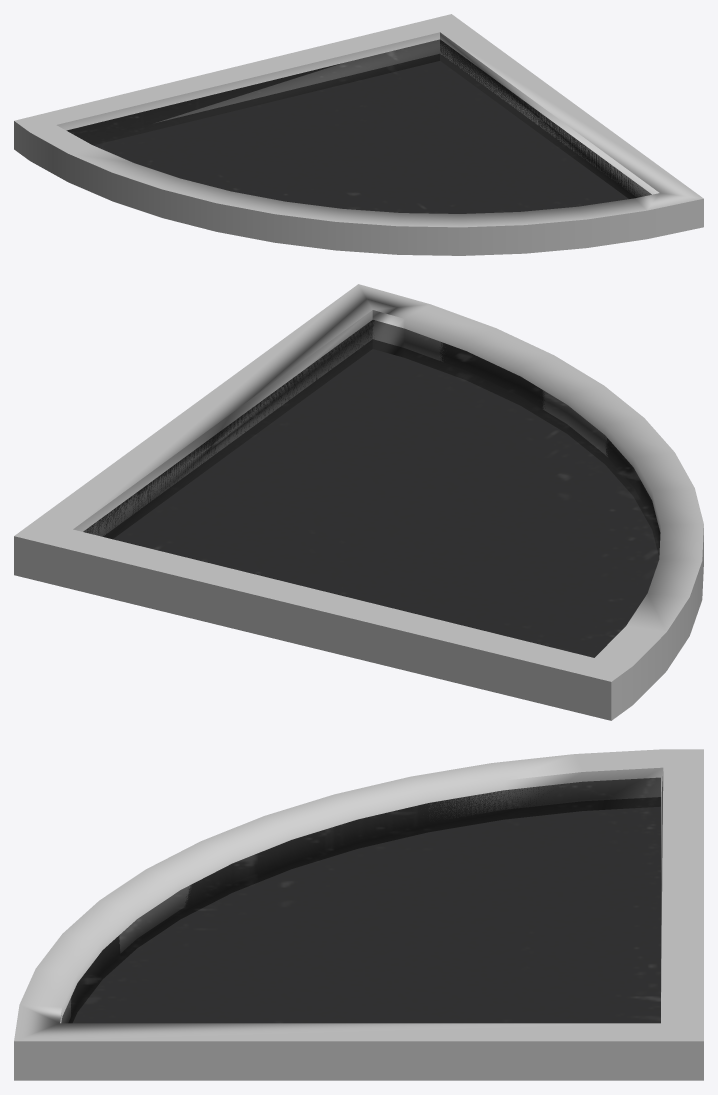
Rendered from glass_2x2_quartercircle.fbx.
3 views of the same model, one above another, from view 1: azimuth 30°, elevation 25°; view 2: azimuth 150°, elevation 25°; view 3: azimuth 270°, elevation 25° (orthographic). The views are drawn at different scales.
Visible parts, largest first — view 1: glass_2x2_quartercircle; view 2: glass_2x2_quartercircle; view 3: glass_2x2_quartercircle.
Part boxes in pixels (x1=…): glass_2x2_quartercircle: x1=14, y1=14, x2=703, y2=255; glass_2x2_quartercircle: x1=14, y1=284, x2=703, y2=720; glass_2x2_quartercircle: x1=14, y1=749, x2=703, y2=1080.
Size of the model in its own units: 40.05 by 2.5 by 39.99.
